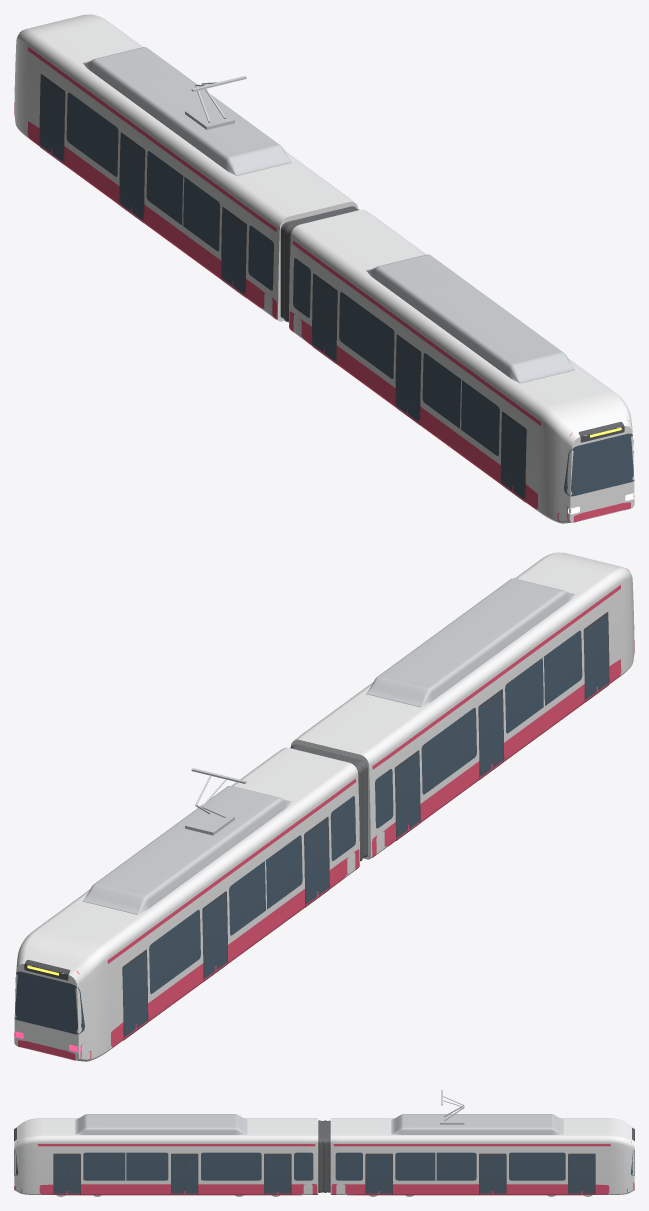
The model's file is rail-tram.glb.
3 renders of one model, top to bottom at view 1: azimuth 30°, elevation 25°; view 2: azimuth 150°, elevation 25°; view 3: azimuth 270°, elevation 25°, orthographic. The views are drawn at different scales.
Visible parts, largest first — view 1: rail-tram; view 2: rail-tram; view 3: rail-tram.
Boxes of the visible parts, x1,y1,x2,y2 form: rail-tram: (14,14,634,523); rail-tram: (14,552,634,1061); rail-tram: (14,1090,634,1196).
Size of the model in its own units: 2.69 by 5.07 by 30.64.
